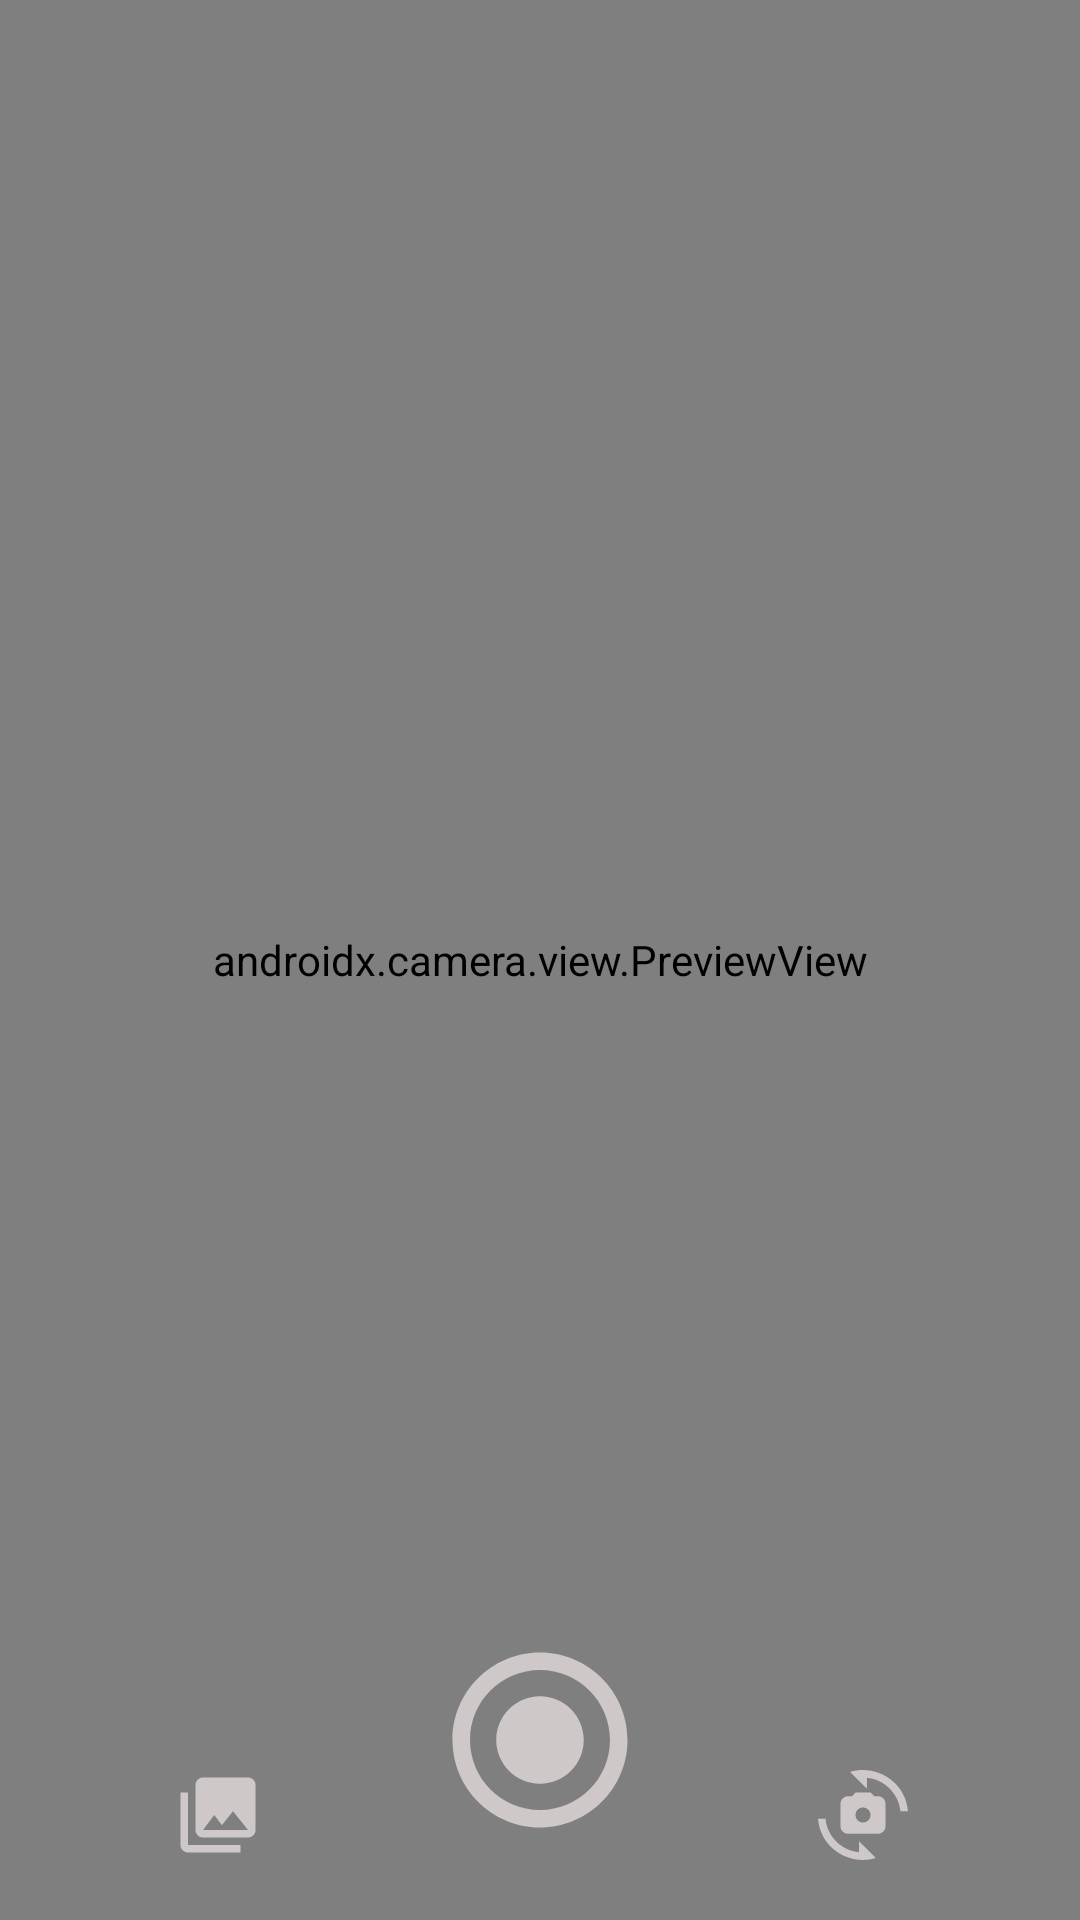

Point at icon controls on the screen. Image size 1080px×1920px, points as (x=x, y=y).
gallery: (x=218, y=1815)
switchcamera: (x=863, y=1815)
